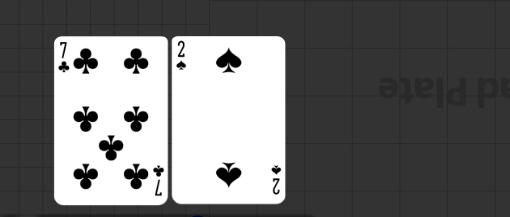2S: (175, 40, 188, 73)
7C: (57, 41, 72, 76)
